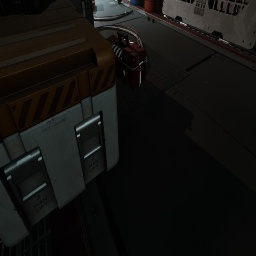FireExtinguisher ]: (117, 0, 122, 3)
FirstAidBox ,: (106, 30, 147, 90), (92, 0, 95, 10)
